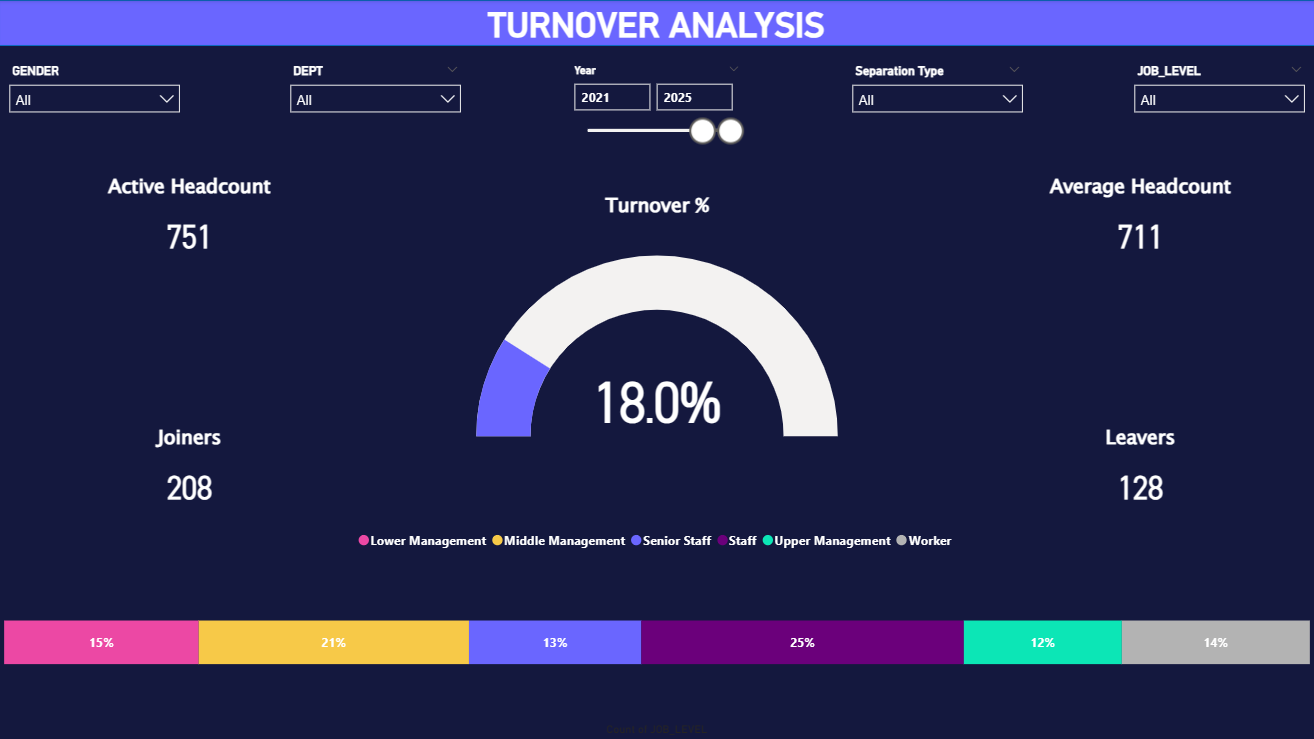

What the dashboard file says about the page in this screenshot:
{"tool":"powerbi","page":{"name":"T1","canvas":[1280,720],"ordinal":0},"visuals":[{"type":"shape","box":[0,0,1280,44.7],"z":0},{"type":"textbox","box":[469.8,0,340.4,57.4],"z":1000},{"type":"cardVisual","title":"Active Headcount","fields":{"Data":["Date.Active HC"]},"box":[80.7,167.3,209.1,94.3],"z":2000},{"type":"cardVisual","title":"Joiners","fields":{"Data":["Date.Joiners"]},"box":[80.7,411.4,209.1,94.3],"z":3000},{"type":"cardVisual","title":"Average Headcount","fields":{"Data":["Date.Average HC"]},"box":[1005.7,167.3,209.1,94.3],"z":4000},{"type":"cardVisual","title":"Leavers","fields":{"Data":["Date.Leavers"]},"box":[1005.7,411.4,209.1,94.3],"z":5000},{"type":"slicer","title":"Active Headcount","fields":{"Values":["Date.Year"]},"box":[546.6,57.4,185.8,95.3],"z":6000},{"type":"gauge","title":"Turnover %","fields":{"Y":["Date.Turnover %"]},"box":[459.1,185.8,361.8,273.3],"z":7000},{"type":"hundredPercentStackedBarChart","title":"Job Level","fields":{"Y":["CountNonNull(Turnover.JOB_LEVEL)"],"Series":["Turnover.JOB_LEVEL"]},"box":[0,505.8,1280,214],"z":8000},{"type":"slicer","title":"Active Headcount","fields":{"Values":["Turnover.DEPT"]},"box":[273.3,57.4,185.8,95.3],"z":9000},{"type":"slicer","title":"Active Headcount","fields":{"Values":["Turnover.GENDER"]},"box":[0,57.4,185.8,95.3],"z":10000},{"type":"slicer","title":"Active Headcount","fields":{"Values":["Turnover.JOB_LEVEL"]},"box":[1094.2,57.4,185.8,95.3],"z":11000},{"type":"slicer","title":"Active Headcount","fields":{"Values":["Turnover.Separation Type"]},"box":[820.4,57.4,185.8,95.3],"z":12000}]}

Visuals, with their boxes in screenshot pixels (x1, y1, x2, y2), scaled from the page's 1280x720 canvas onto the 1314x739 screenshot:
shape: [x1=0, y1=0, x2=1313, y2=46]
textbox: [x1=482, y1=0, x2=832, y2=59]
"Active Headcount" cardVisual: [x1=83, y1=172, x2=297, y2=269]
"Joiners" cardVisual: [x1=83, y1=422, x2=297, y2=519]
"Average Headcount" cardVisual: [x1=1032, y1=172, x2=1247, y2=269]
"Leavers" cardVisual: [x1=1032, y1=422, x2=1247, y2=519]
"Active Headcount" slicer: [x1=561, y1=59, x2=752, y2=157]
"Turnover %" gauge: [x1=471, y1=191, x2=843, y2=471]
"Job Level" hundredPercentStackedBarChart: [x1=0, y1=519, x2=1313, y2=738]
"Active Headcount" slicer: [x1=281, y1=59, x2=471, y2=157]
"Active Headcount" slicer: [x1=0, y1=59, x2=191, y2=157]
"Active Headcount" slicer: [x1=1123, y1=59, x2=1313, y2=157]
"Active Headcount" slicer: [x1=842, y1=59, x2=1033, y2=157]
